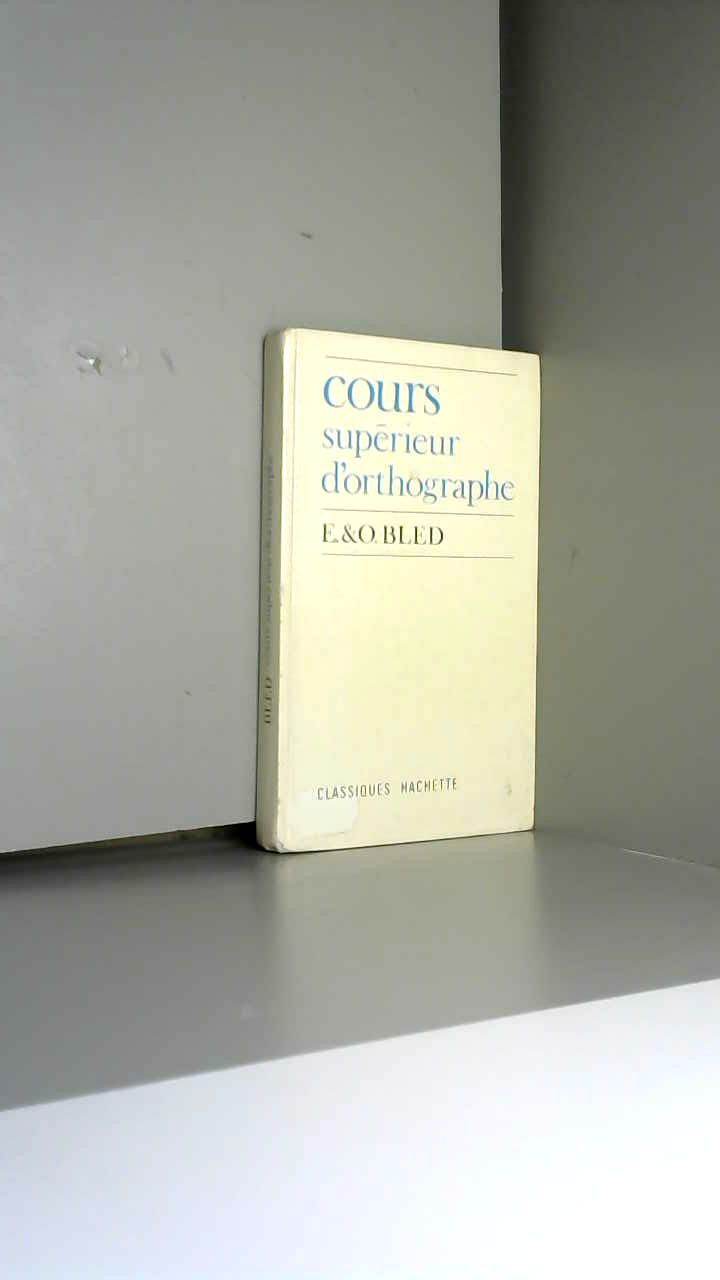book: (212, 293, 594, 892)
